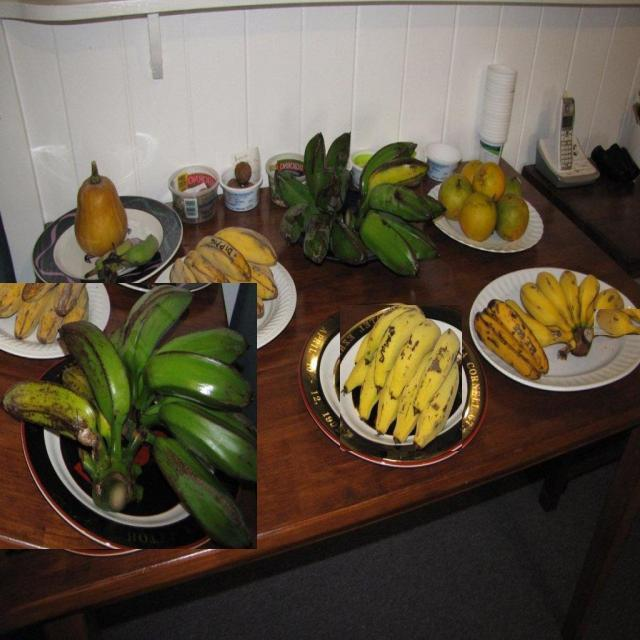Banana: (0, 283, 257, 549), (269, 132, 443, 276), (473, 270, 639, 380), (340, 305, 462, 451), (165, 228, 278, 344), (594, 310, 640, 336)
